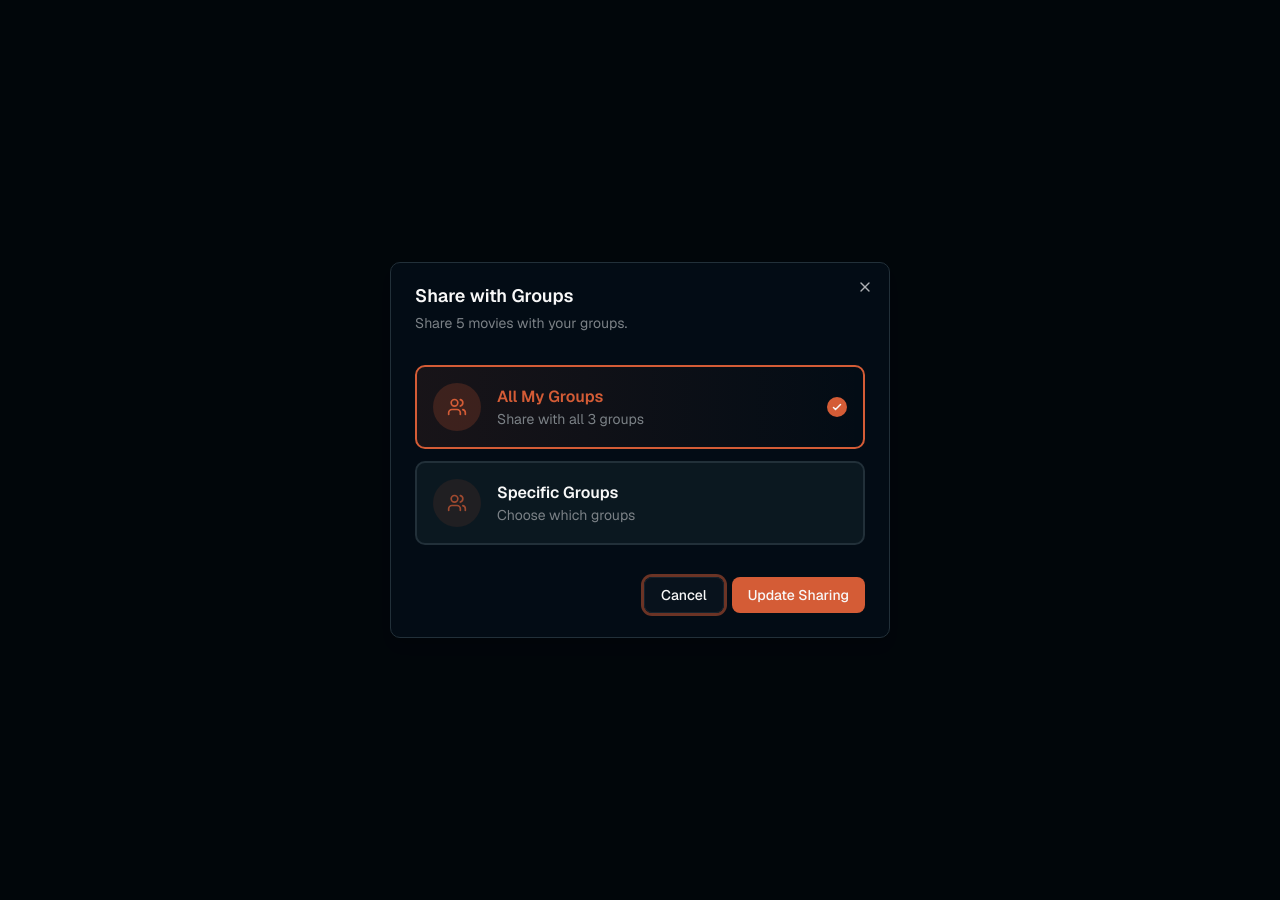
Test: BulkShareWithGroupsDialog › displays all user groups after loading
Note: Click "Specific Groups" button to open secondary modal
Click the button "Specific Groups Choose which groups" at point(457, 503), box top-left (415, 461), bottom-right (865, 545)
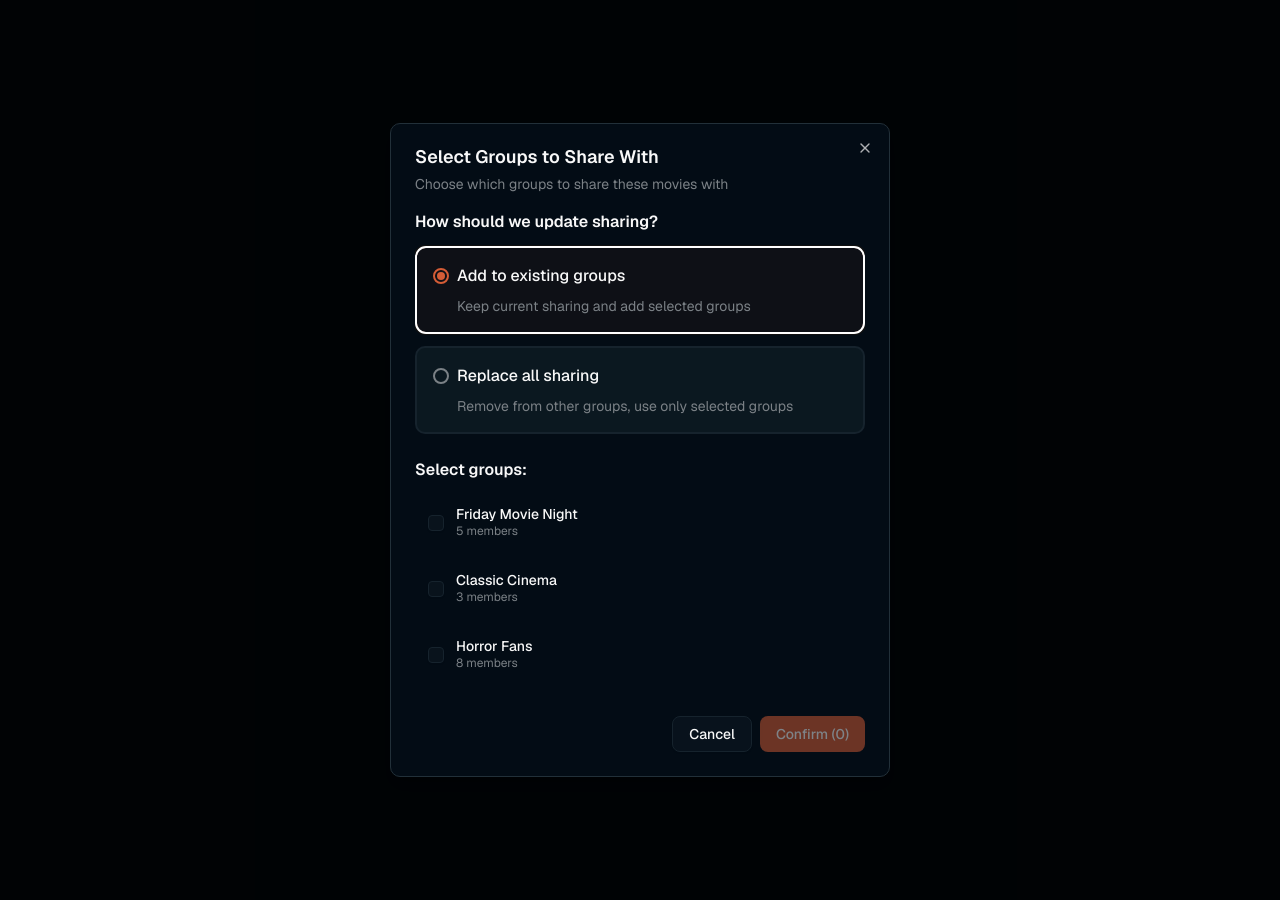
expect the text "Friday Movie Night" is shown: met, box top-left (456, 507), bottom-right (578, 521)
expect the text "Classic Cinema" is shown: met, box top-left (456, 573), bottom-right (557, 587)
expect the text "Horror Fans" is shown: met, box top-left (456, 639), bottom-right (532, 653)
